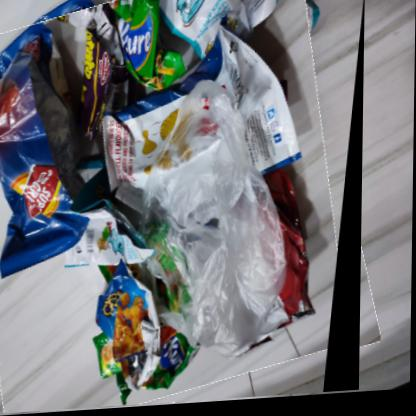Garbage: (1, 1, 367, 416)
